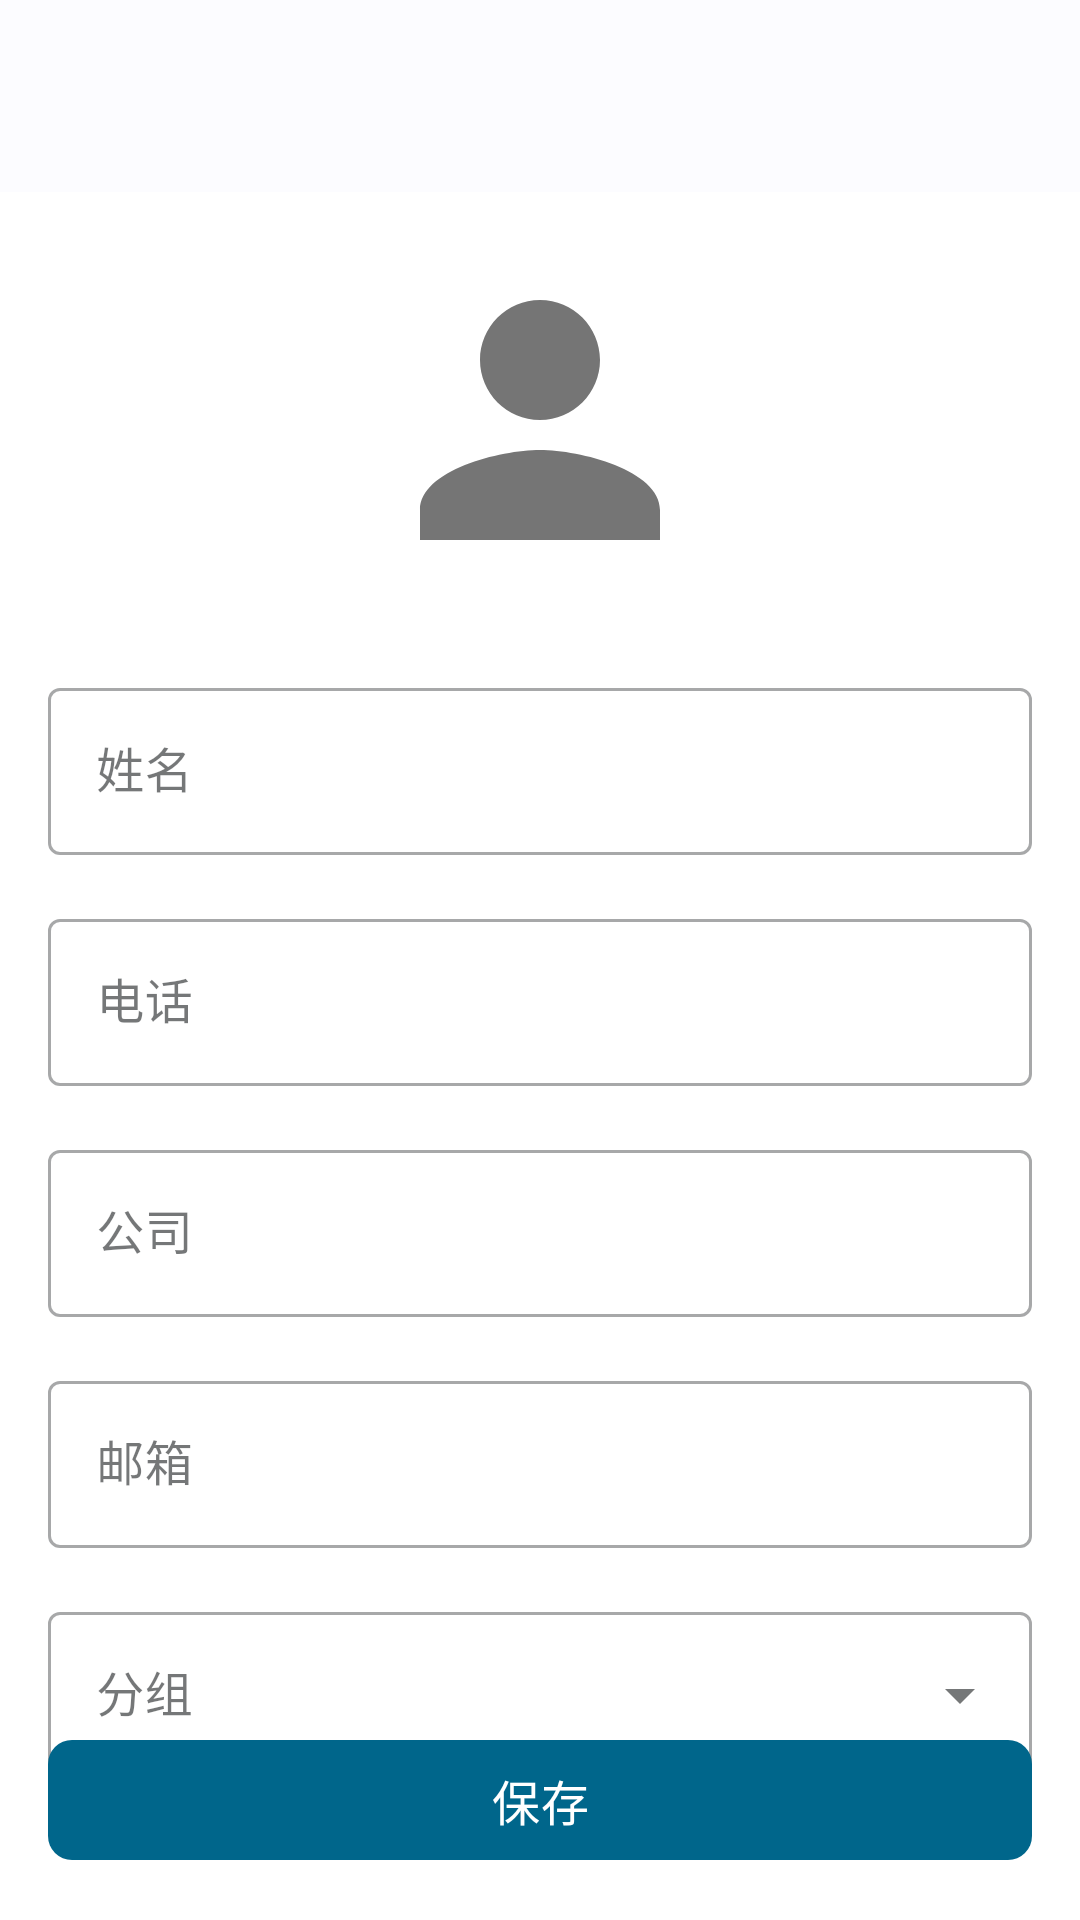

Icon click points for this 1080 x 1920 phone screenshot, format (x=x, y=y):
contact: (x=540, y=420)
